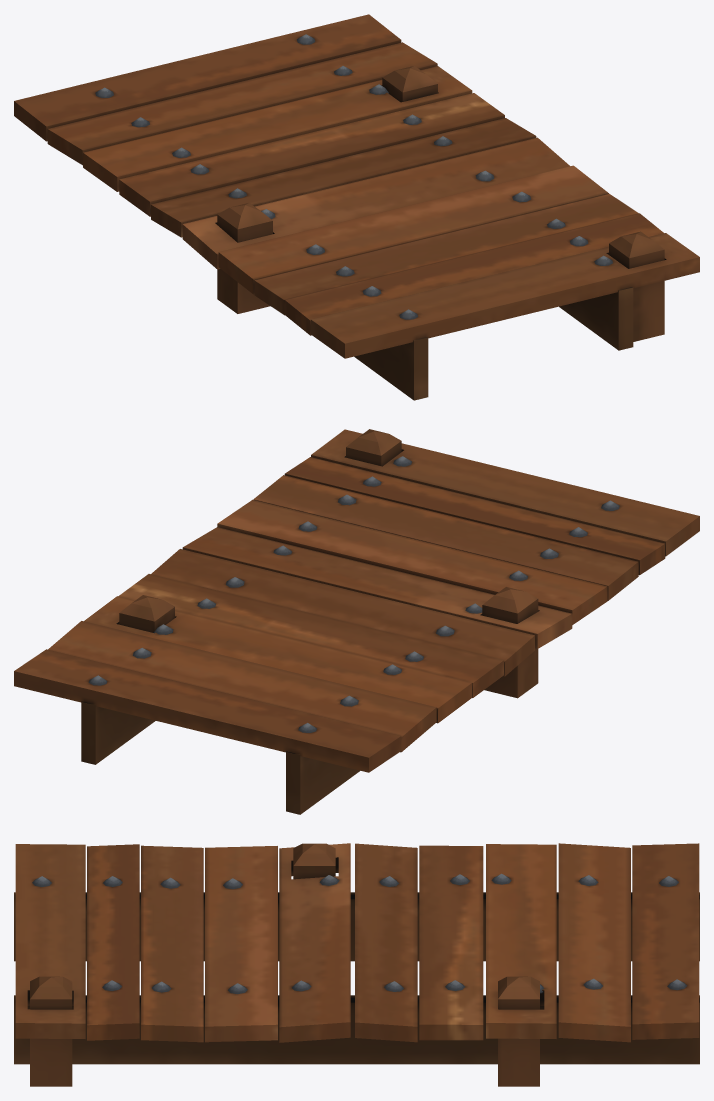
The model's file is 1PAv_BoisCentre.FBX.
3 views of the same model, one above another, from view 1: azimuth 30°, elevation 25°; view 2: azimuth 150°, elevation 25°; view 3: azimuth 270°, elevation 25° (orthographic). The views are drawn at different scales.
Parts seen in each view (by area): view 1: 1PAv_BoisCentre; view 2: 1PAv_BoisCentre; view 3: 1PAv_BoisCentre.
Boxes of the visible parts, x1,y1,x2,y2 form: 1PAv_BoisCentre: (14, 14, 699, 400); 1PAv_BoisCentre: (14, 429, 699, 814); 1PAv_BoisCentre: (14, 843, 699, 1086).
Bounding box in the file's own units: 6.18 × 1.62 × 10.
